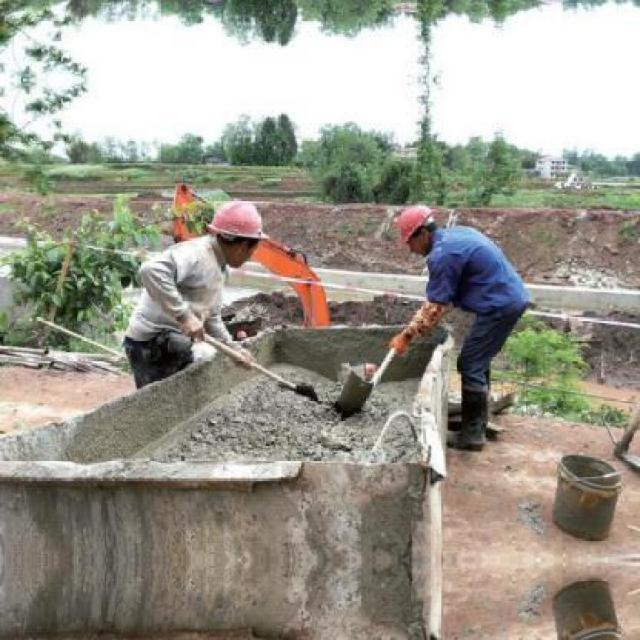hat: (204, 197, 270, 248), (394, 203, 438, 243)
